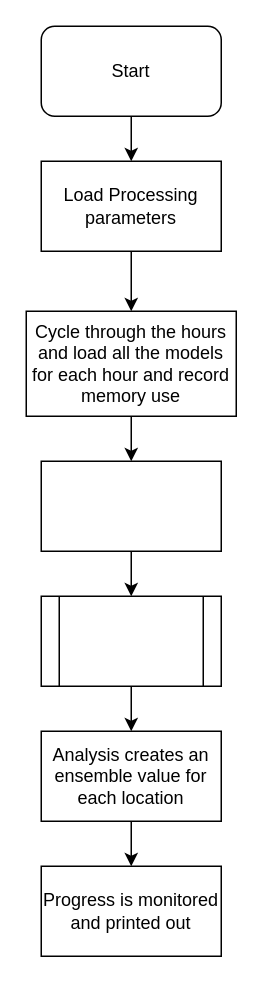
Image size: 263x983. Some labels were removed from this diagram. Each missing label, with the centre of its shape:
Sequential analysis begins: the point at 130,505
Steps through each data location processing data: the point at 130,640
